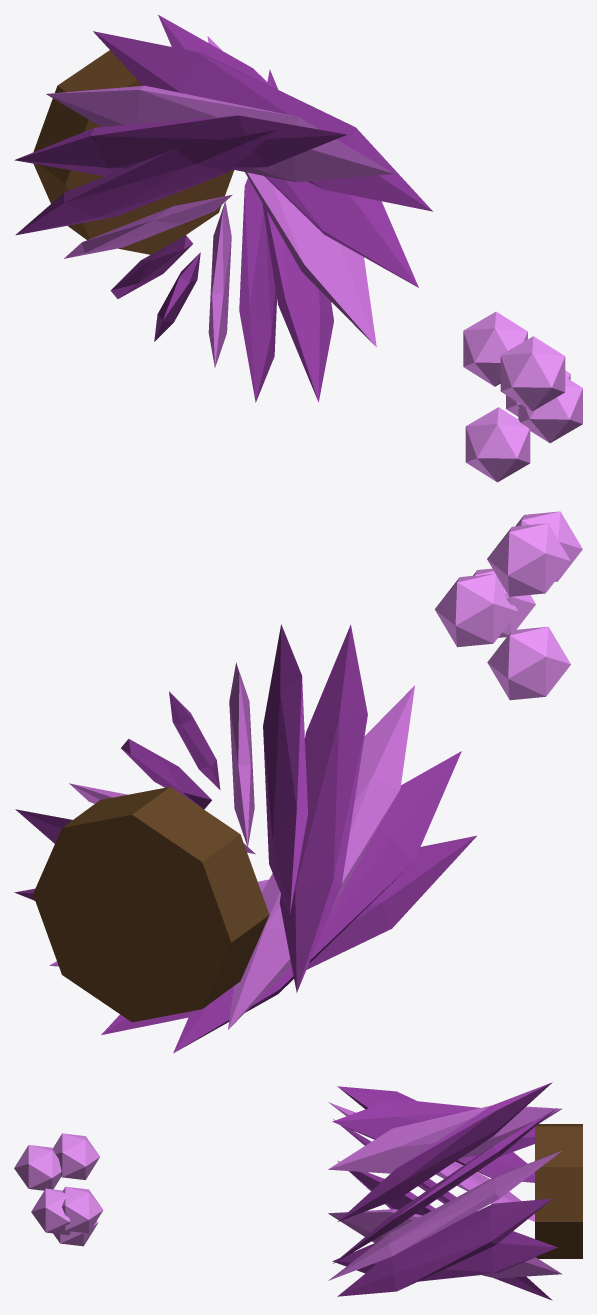
File: 4_mature.obj
3 views of the same model, one above another, from view 1: azimuth 30°, elevation 25°; view 2: azimuth 150°, elevation 25°; view 3: azimuth 270°, elevation 25° (orthographic). The views are drawn at different scales.
Visible parts, largest first — view 1: toadflax_4_mature; view 2: toadflax_4_mature; view 3: toadflax_4_mature.
Boxes of the visible parts, <box> form: toadflax_4_mature: <box>14,15,582,482</box>; toadflax_4_mature: <box>14,511,582,1053</box>; toadflax_4_mature: <box>14,1082,582,1300</box>.
Size of the model in its own units: 0.1808 by 0.1808 by 0.4745.
